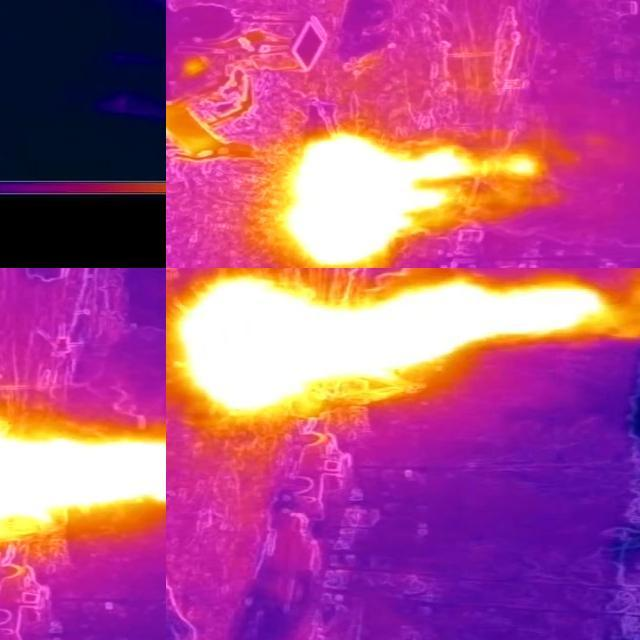fire: (173, 277, 606, 411), (275, 135, 477, 269), (1, 410, 167, 548)
